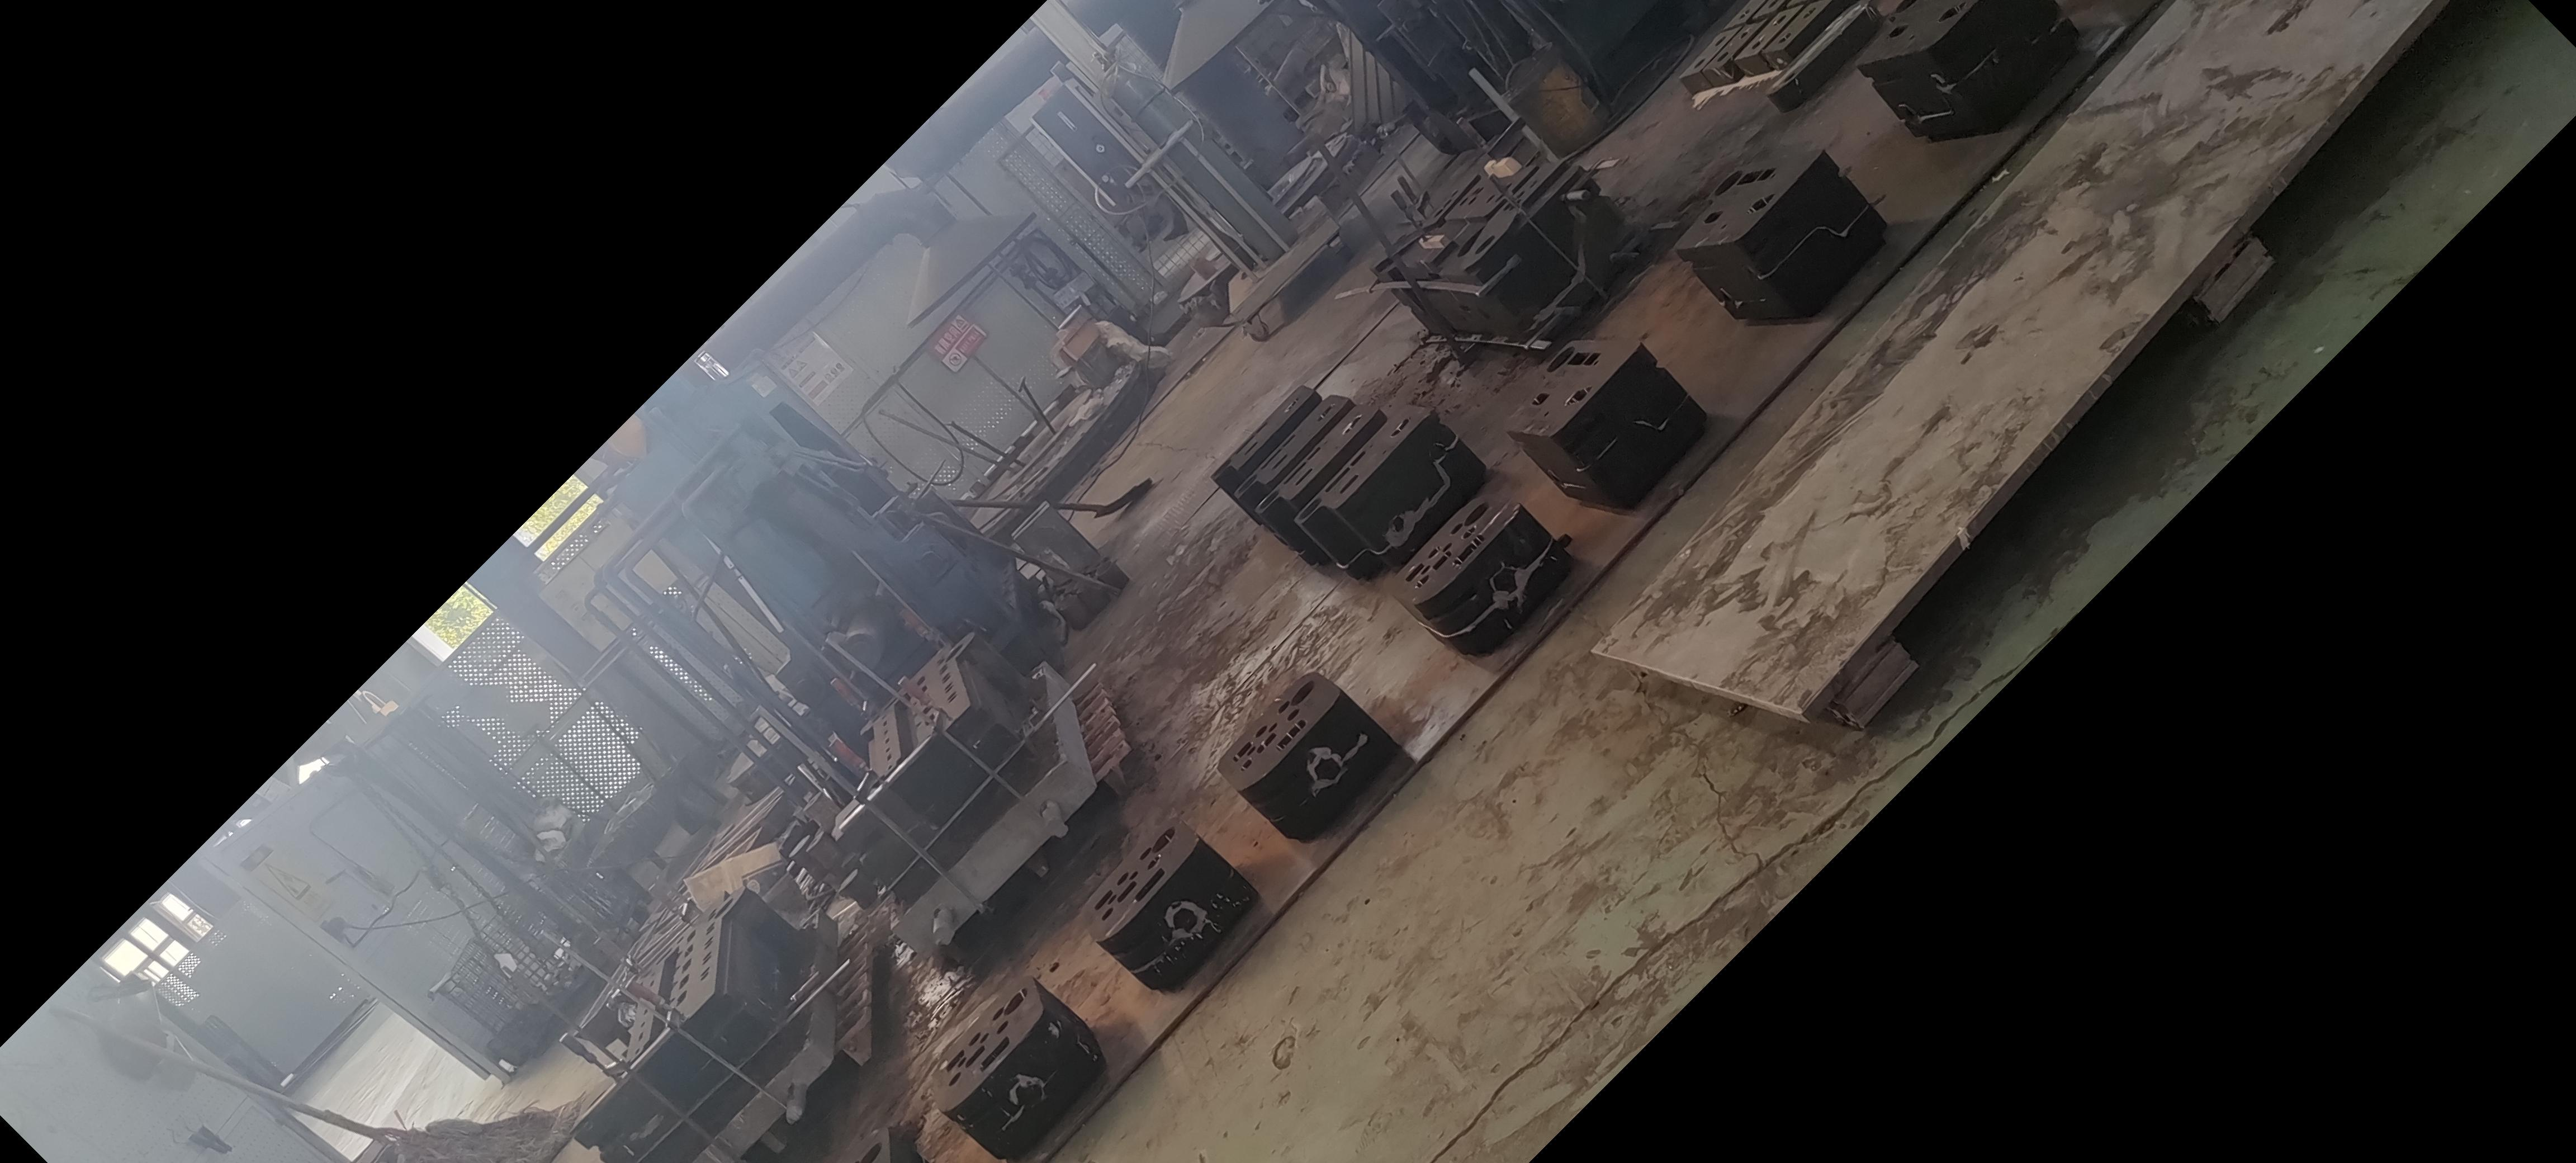pouring hole: (1546, 347, 1575, 373), (1004, 987, 1027, 1018), (1290, 680, 1316, 706), (1714, 171, 1741, 195), (1464, 501, 1488, 527), (582, 1089, 610, 1112), (1152, 826, 1175, 854), (861, 1140, 884, 1163), (1296, 498, 1319, 521), (1475, 235, 1497, 255), (843, 800, 861, 823), (1258, 490, 1278, 509), (1235, 475, 1257, 493), (715, 899, 733, 918), (945, 644, 963, 664), (1212, 460, 1229, 478), (1894, 0, 1914, 13), (1058, 595, 1074, 609), (1076, 578, 1093, 593), (1096, 560, 1111, 577), (1053, 595, 1070, 608), (1776, 31, 1791, 44), (1065, 578, 1079, 591), (1392, 233, 1405, 246), (1074, 577, 1088, 590), (1715, 34, 1727, 46), (1717, 51, 1728, 62), (1802, 8, 1815, 18), (1773, 15, 1786, 25), (1738, 8, 1750, 18), (1694, 59, 1705, 69), (1751, 39, 1763, 49), (1738, 30, 1748, 39), (1768, 0, 1778, 8)
